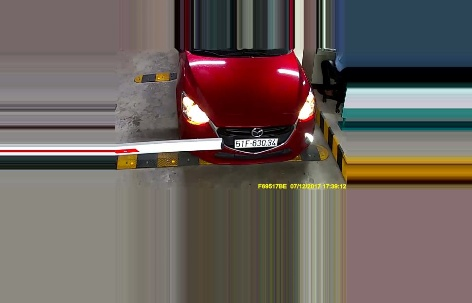plate: (232, 136, 279, 149)
